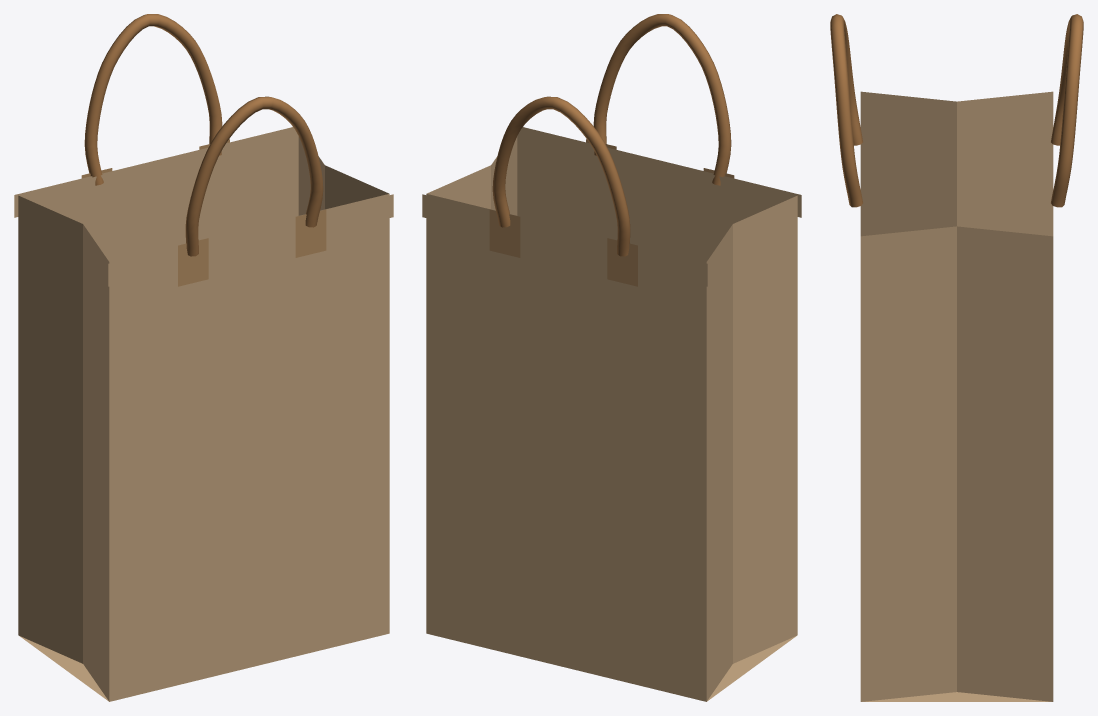
The model's file is KraftPaperBag.glb.
The picture shows the model from 3 angles, left to right: view 1: azimuth 30°, elevation 25°; view 2: azimuth 150°, elevation 25°; view 3: azimuth 270°, elevation 25°; orthographic projection. The views are drawn at different scales.
Visible parts, largest first — view 1: PlaneWOA, HandleFront, HandleBack, PatchFR, PatchFL; view 2: PlaneWOA, HandleBack, HandleFront, PatchBR, PatchBL; view 3: PlaneWOA, HandleFront, HandleBack.
Part boxes in pixels (x1,y1,x2,y2): PlaneWOA: (14,127,393,701); HandleFront: (185,96,323,256); HandleBack: (84,14,222,185); PatchFR: (295,209,326,257); PatchFL: (178,238,208,286); PlaneWOA: (422,127,801,701); HandleBack: (492,96,630,256); HandleFront: (593,14,731,185); PatchBR: (489,209,520,257); PatchBL: (607,238,637,286); PlaneWOA: (860,91,1053,701); HandleFront: (830,14,862,207); HandleBack: (1051,14,1083,207).
Size of the model in its own units: 3.26 by 6.31 by 2.37.
